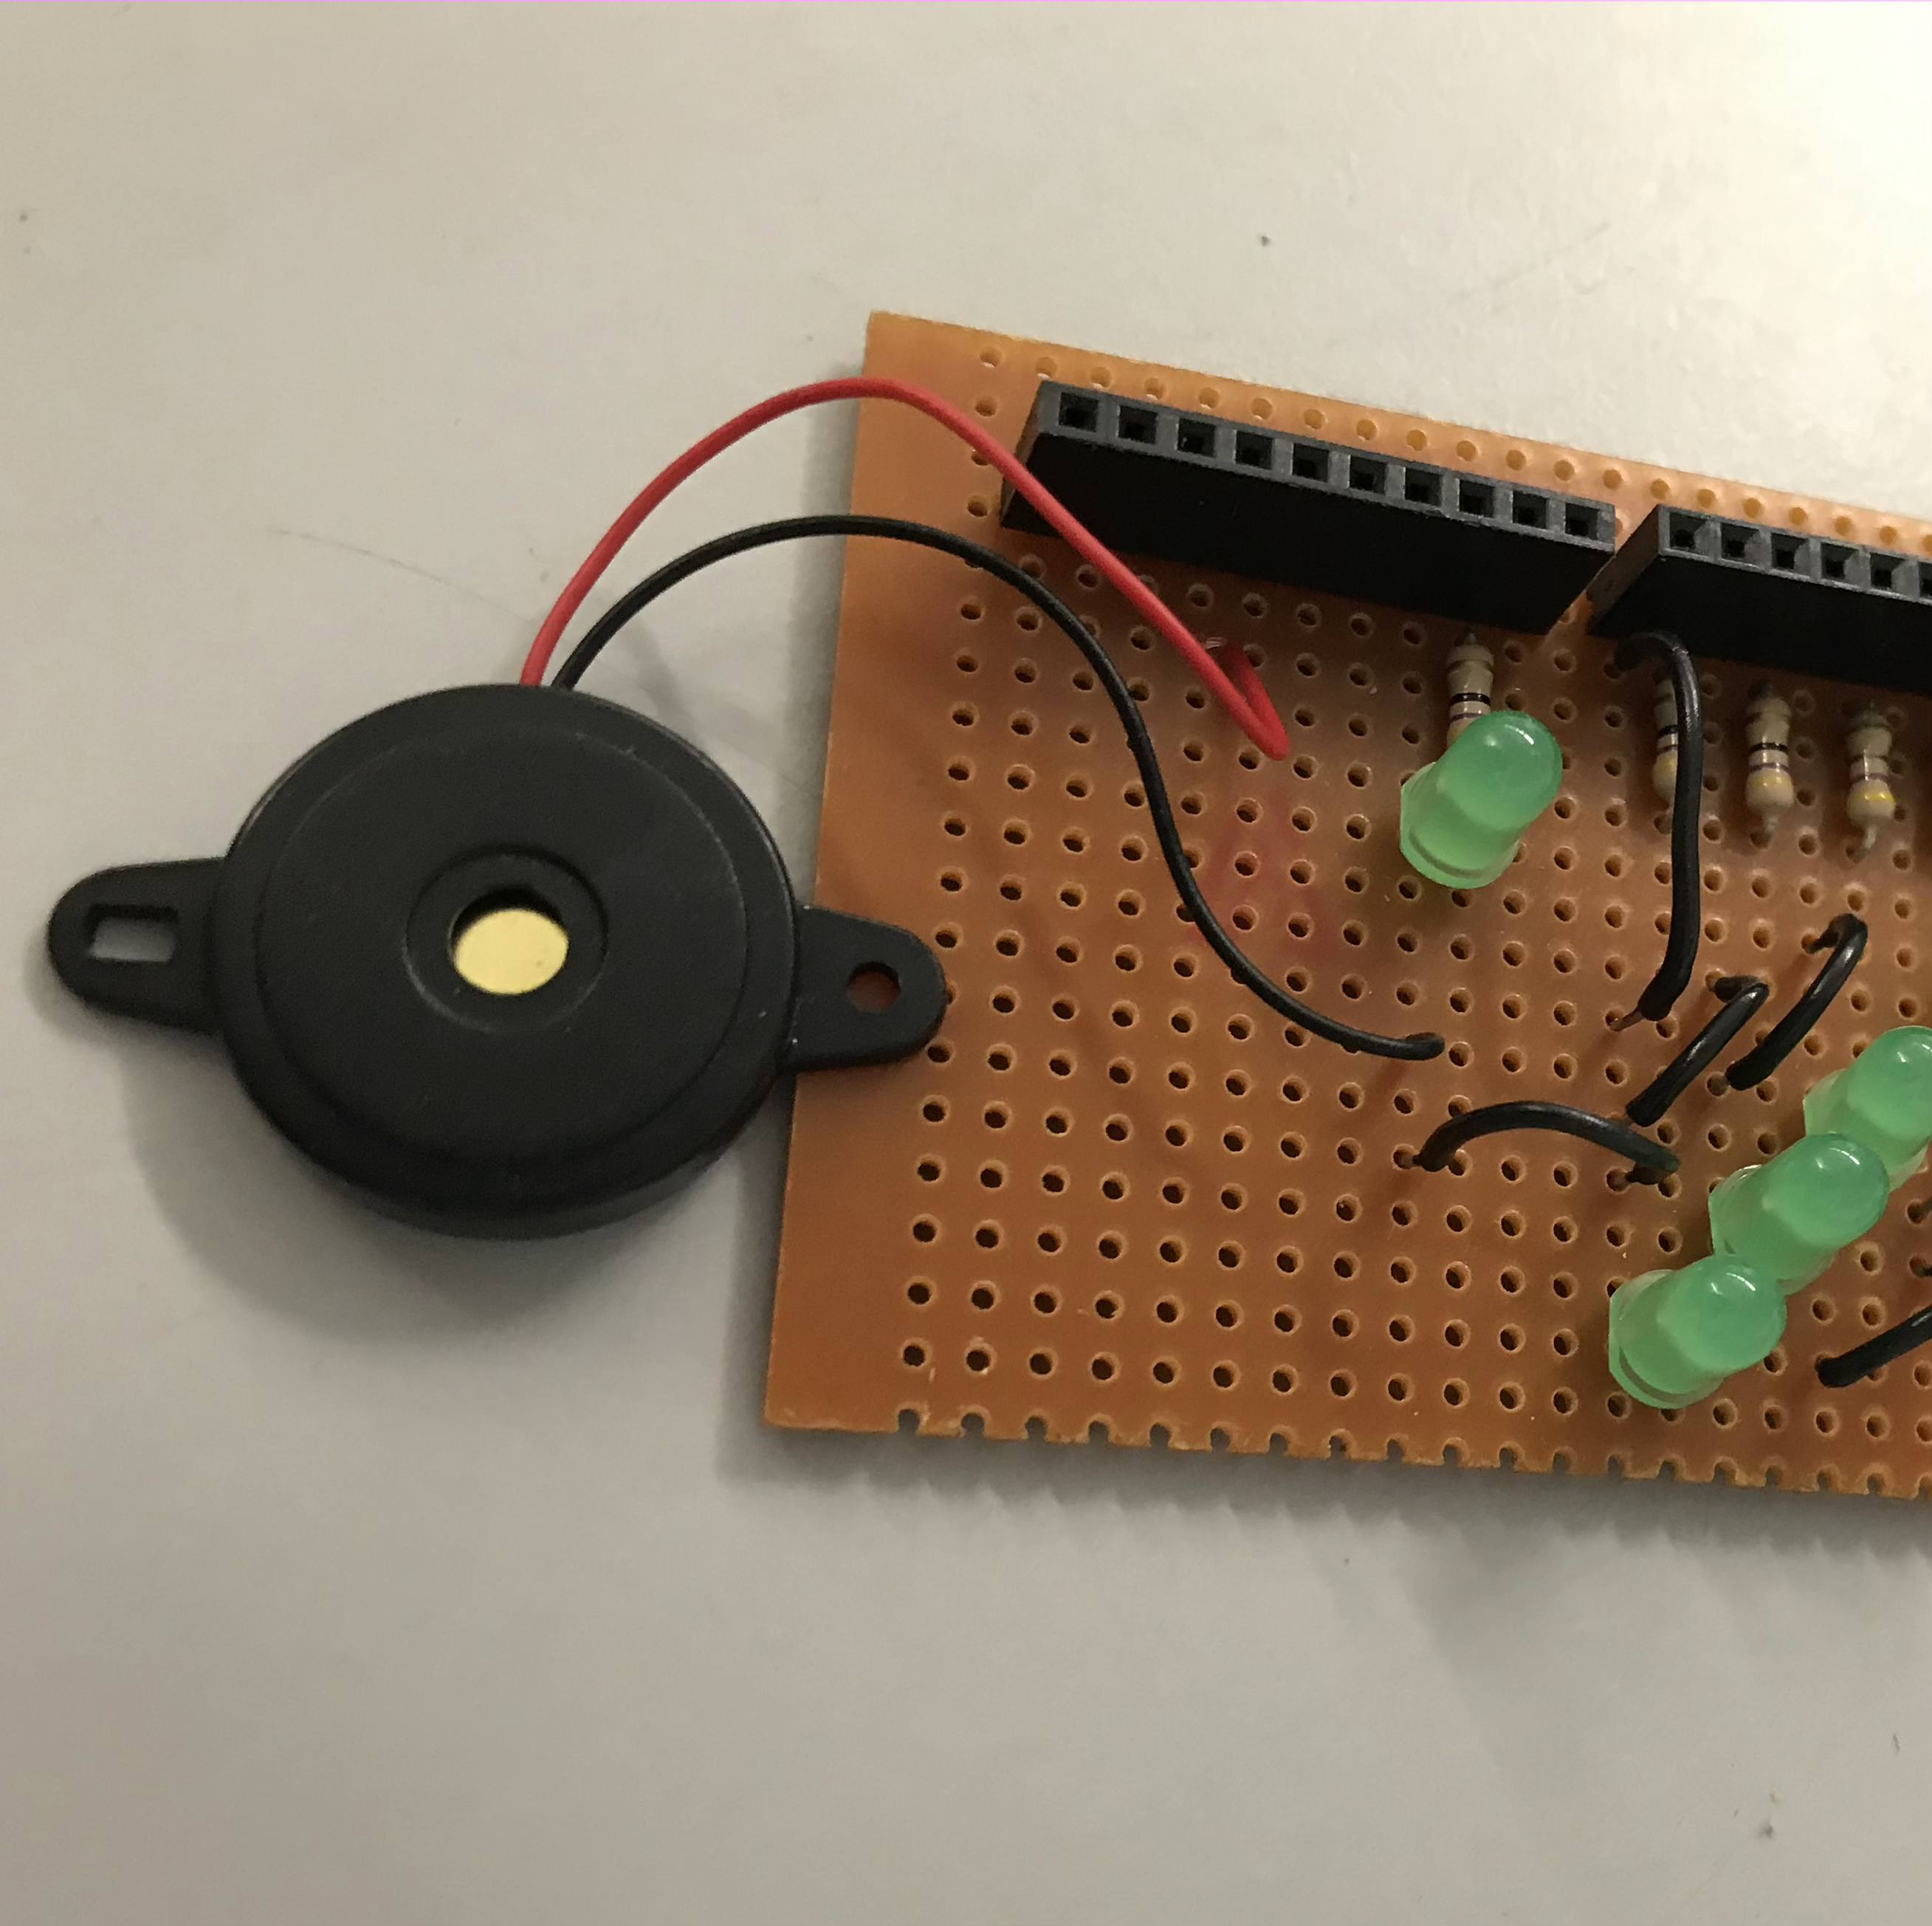LED: (1390, 704, 1570, 892), (1699, 1129, 1895, 1298), (1599, 1243, 1789, 1415), (1798, 1000, 1932, 1210)
Resistor: (1738, 684, 1801, 827), (1840, 705, 1902, 840), (1440, 638, 1501, 765), (1646, 676, 1701, 811)
